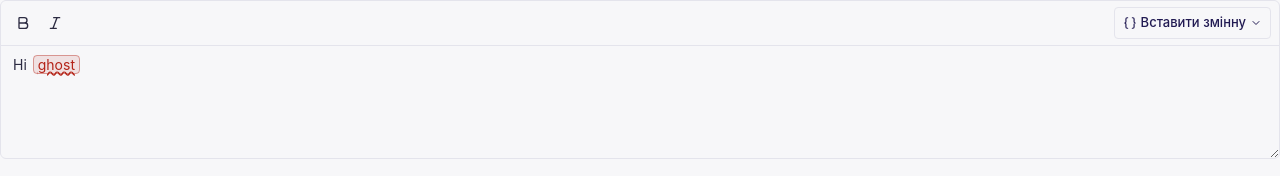
unknown variable tooltip in InAppBodyEditor › opens on Tab focus after a pointer click in the editable field
Press the mouse on the field: (46, 64) [13,55,80,74]
Press Tab in the field, box [13,55,80,74]
Focus the text "ghost": (56, 64) [33,55,80,74]
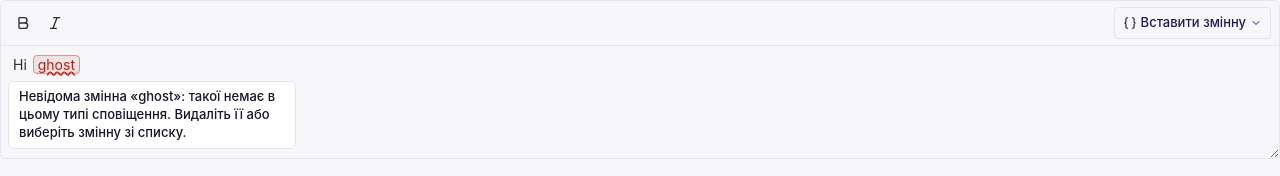
Expected: the tooltip shows "ghost", [19,88,275,140]
